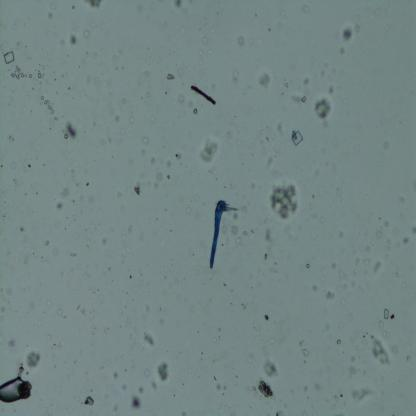Air bubble: (0, 376, 22, 405)
Background material: (270, 182, 300, 219), (197, 133, 219, 164), (370, 338, 391, 367), (190, 84, 216, 106), (207, 371, 230, 394), (163, 148, 187, 170), (53, 183, 70, 212), (349, 387, 376, 405), (371, 217, 392, 238), (314, 95, 330, 122), (341, 21, 361, 42), (58, 122, 78, 142), (256, 379, 274, 401), (156, 360, 169, 388), (263, 359, 280, 379), (24, 349, 40, 370), (19, 380, 33, 400), (230, 224, 244, 244), (346, 352, 356, 379), (128, 393, 142, 412), (264, 147, 275, 168), (108, 105, 120, 124), (382, 307, 396, 322), (153, 172, 164, 191), (76, 300, 88, 317), (374, 258, 384, 278), (292, 93, 306, 107), (87, 0, 103, 12), (67, 245, 79, 261), (144, 329, 154, 348), (132, 179, 142, 197), (236, 31, 246, 48), (82, 394, 94, 408), (260, 73, 269, 91), (300, 380, 309, 396), (299, 348, 312, 359), (324, 288, 335, 301), (400, 231, 410, 244), (310, 282, 321, 293), (262, 249, 273, 260), (166, 71, 176, 83), (69, 34, 79, 45), (266, 226, 272, 243), (174, 1, 184, 10), (136, 385, 146, 393), (9, 133, 16, 143), (113, 369, 118, 380), (144, 138, 150, 146), (264, 314, 270, 322), (336, 338, 342, 345), (46, 240, 51, 247)
Cotton: (209, 200, 232, 268)
